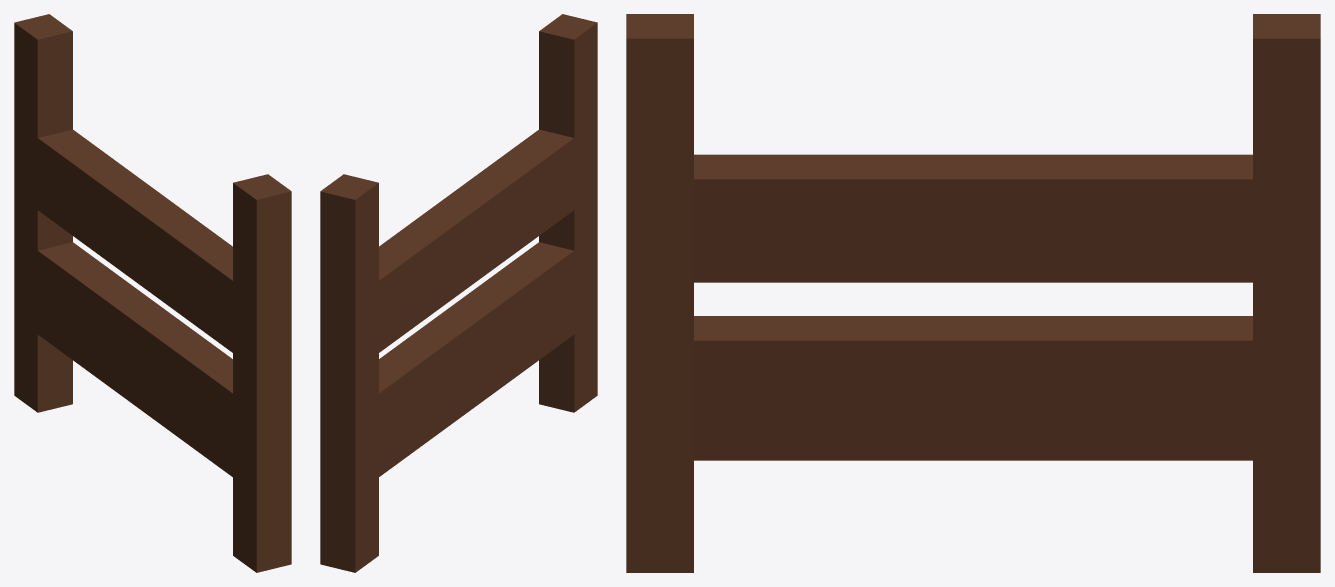
File: Staccionata 1.fbx
3 views of the same model, side by side, from view 1: azimuth 30°, elevation 25°; view 2: azimuth 150°, elevation 25°; view 3: azimuth 270°, elevation 25° (orthographic). The views are drawn at different scales.
Visible parts, largest first — view 1: Cancelletto 1; view 2: Cancelletto 1; view 3: Cancelletto 1.
Part boxes in pixels (bbox=[...]): Cancelletto 1: bbox=[14, 14, 291, 572]; Cancelletto 1: bbox=[320, 14, 597, 572]; Cancelletto 1: bbox=[626, 14, 1320, 572].
Size of the model in its own units: 18.69 by 189 by 223.
